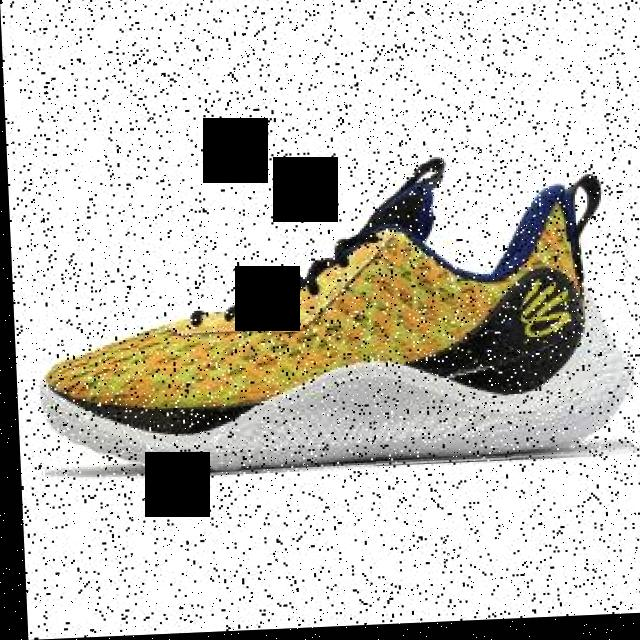shoe: (27, 160, 634, 483)
